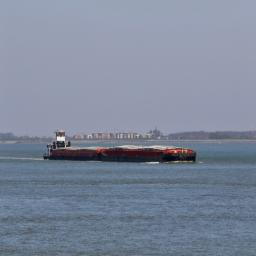tugboat: (43, 129, 74, 166)
